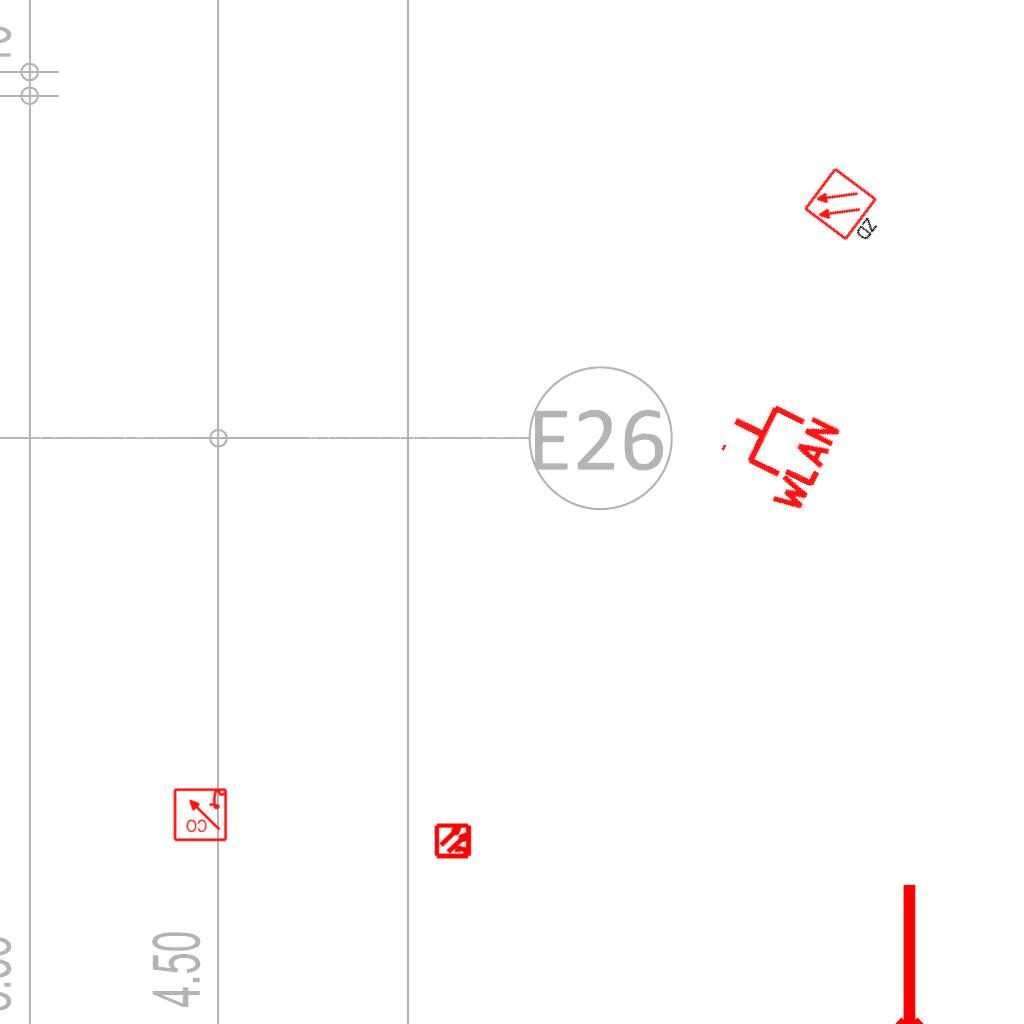ASR_Ansaugoeffnung: (884, 879, 930, 1024)
OT_Multisensormelder_(Kombination_RMO_WMD): (426, 813, 482, 869)
ROA_Rauchmelder_optisch_mit_Signalgeber_(Sockelsirene): (172, 786, 228, 842)
WLAN: (704, 380, 845, 520)
ZD_Melder_in_Zwischendecke_mit_Revisionsoeffnung_mind_40_x_40_cm: (801, 163, 896, 255)
